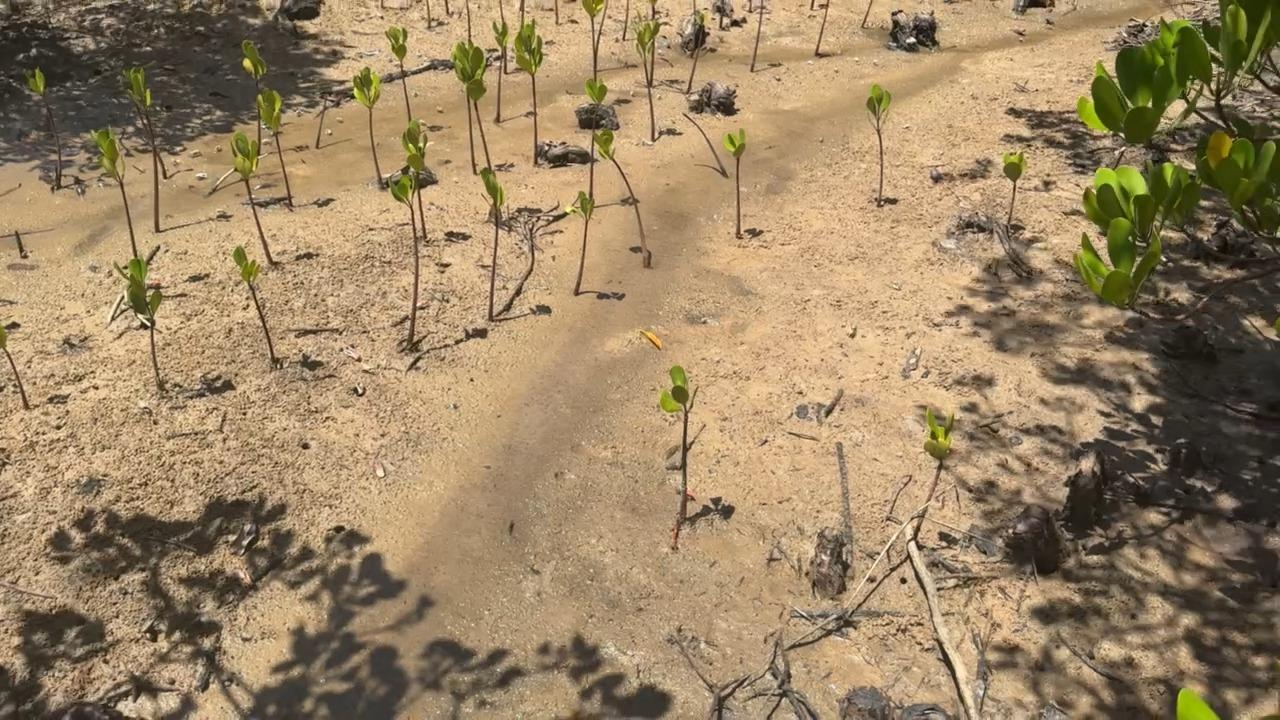Tree: (564, 78, 608, 294), (388, 119, 428, 348), (592, 127, 652, 266), (115, 65, 160, 230), (111, 57, 166, 178), (88, 125, 137, 256), (114, 256, 163, 381), (661, 366, 699, 520), (451, 38, 494, 170), (231, 130, 273, 265), (914, 406, 954, 535), (633, 9, 672, 140), (233, 247, 275, 360), (24, 67, 62, 186), (515, 18, 544, 163), (478, 167, 505, 320), (258, 88, 293, 206), (352, 66, 384, 187), (865, 84, 891, 207), (240, 38, 266, 154), (682, 112, 728, 176), (0, 325, 28, 409), (581, 0, 609, 83), (385, 28, 410, 119), (465, 1, 477, 175), (726, 126, 744, 237), (491, 21, 510, 121), (685, 10, 708, 91), (1002, 150, 1027, 223), (750, 0, 764, 71), (815, 0, 833, 55), (498, 1, 508, 74), (316, 97, 329, 149), (860, 0, 878, 27), (622, 0, 631, 39), (518, 0, 526, 24), (425, 0, 432, 27), (553, 0, 560, 24), (446, 0, 450, 18)
